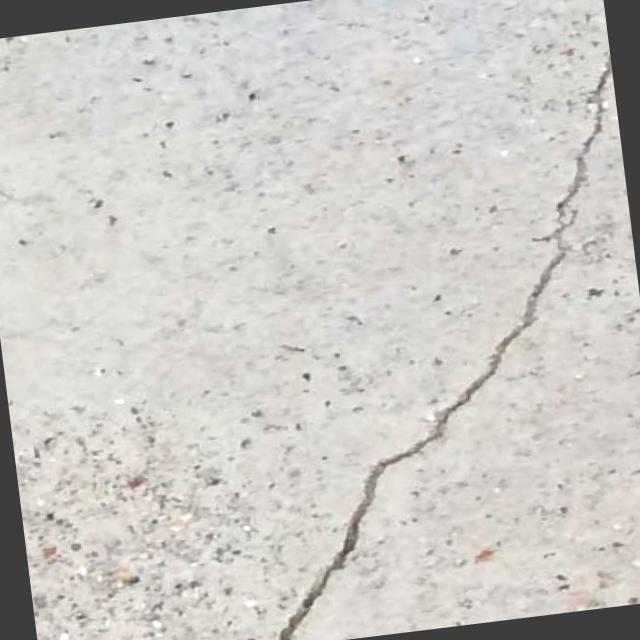crack: (204, 46, 640, 640)
